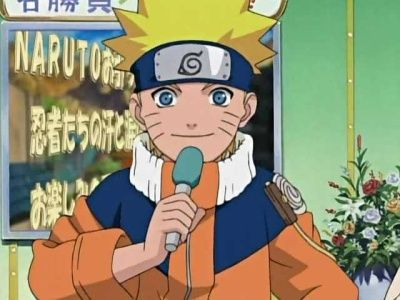naruto: (129, 36, 260, 164)
